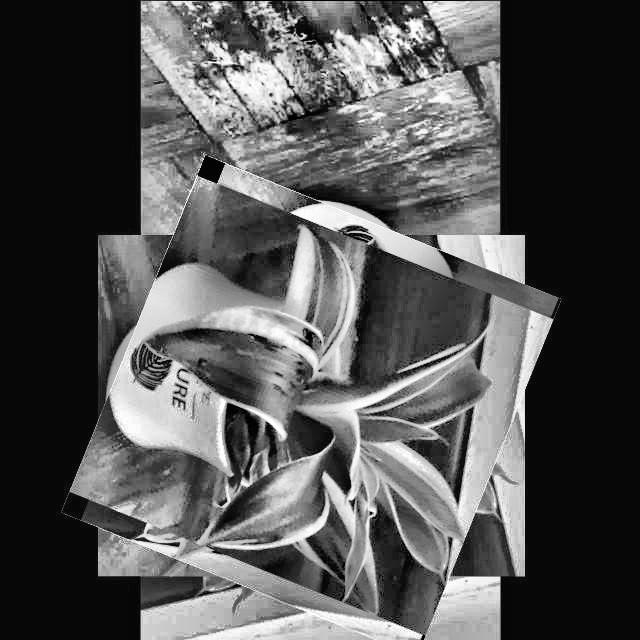plants: (90, 184, 532, 627)
